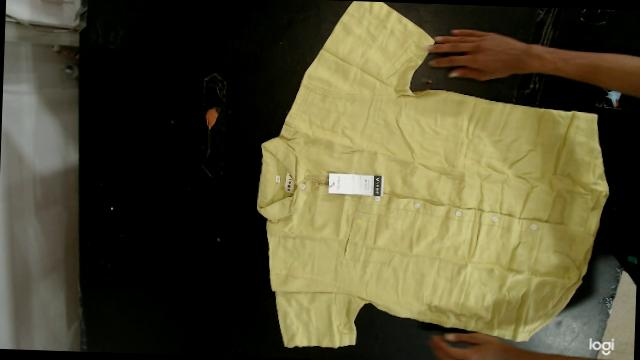new-garment: (258, 1, 608, 347)
